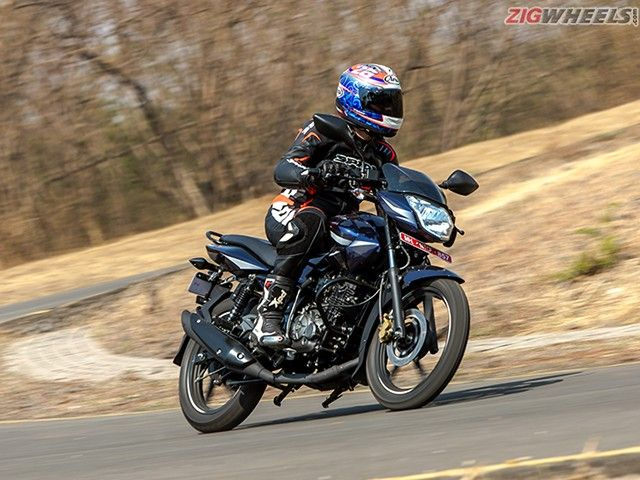helmet: (340, 64, 411, 141)
